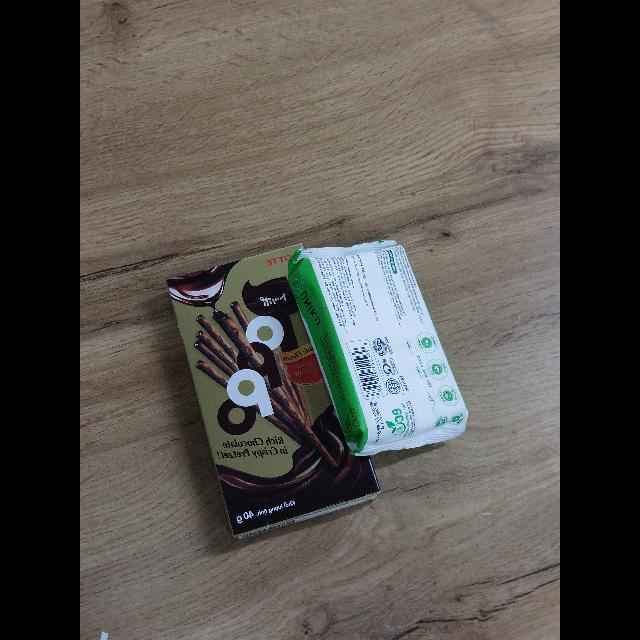banh_toppo_socola: (167, 244, 380, 539)
khan_giay: (288, 241, 468, 456)
